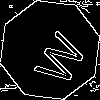W: (25, 25, 89, 89)
